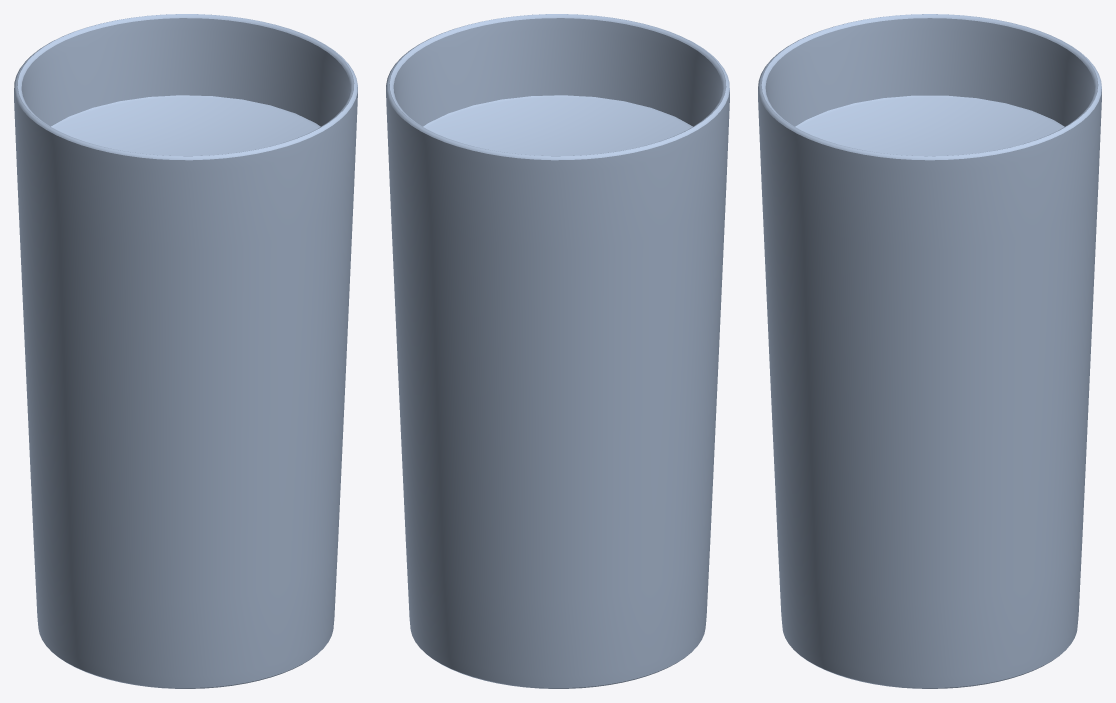
The model's file is Water Renormalized.fbx.
3 renders of one model, left to right at view 1: azimuth 30°, elevation 25°; view 2: azimuth 150°, elevation 25°; view 3: azimuth 270°, elevation 25°, orthographic.
Parts seen in each view (by area): view 1: Cylinder, Cylinder.004; view 2: Cylinder, Cylinder.004; view 3: Cylinder, Cylinder.004.
Part boxes in pixels (x1,y1,x2,y2): Cylinder: (14, 14, 357, 688); Cylinder.004: (51, 95, 320, 155); Cylinder: (386, 14, 729, 688); Cylinder.004: (423, 95, 692, 155); Cylinder: (758, 14, 1101, 688); Cylinder.004: (795, 95, 1064, 156).
Bounding box in the file's own units: 193 × 337 × 193.
